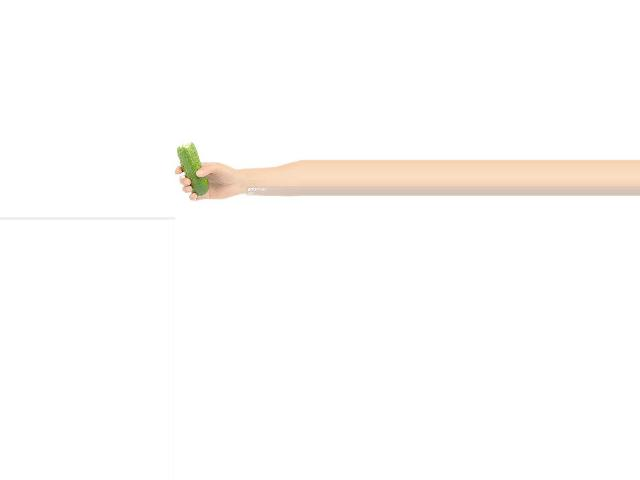cucumber: (177, 142, 209, 196)
